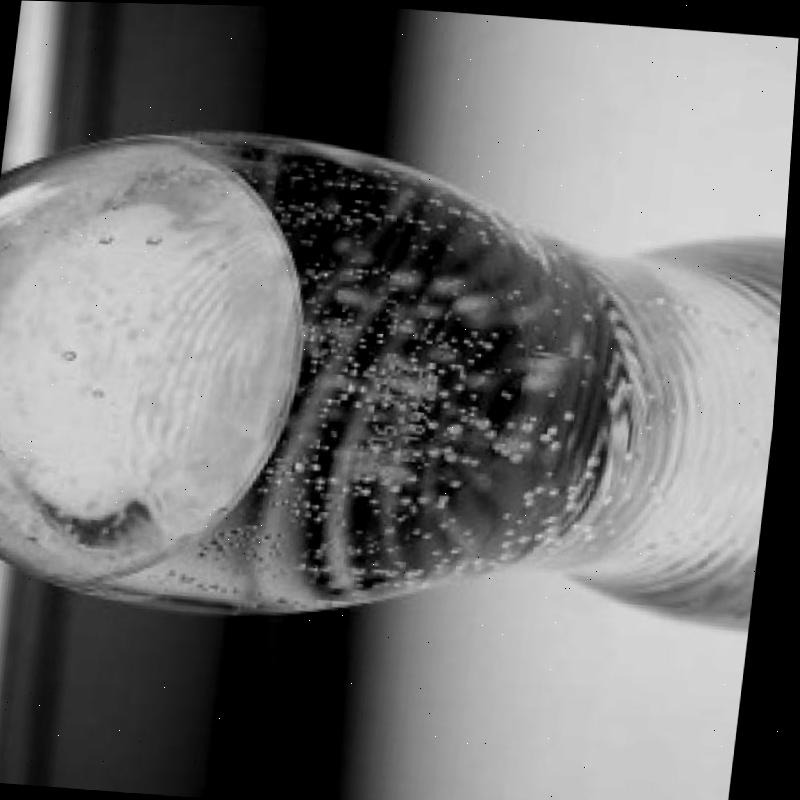botella: (0, 112, 794, 652)
